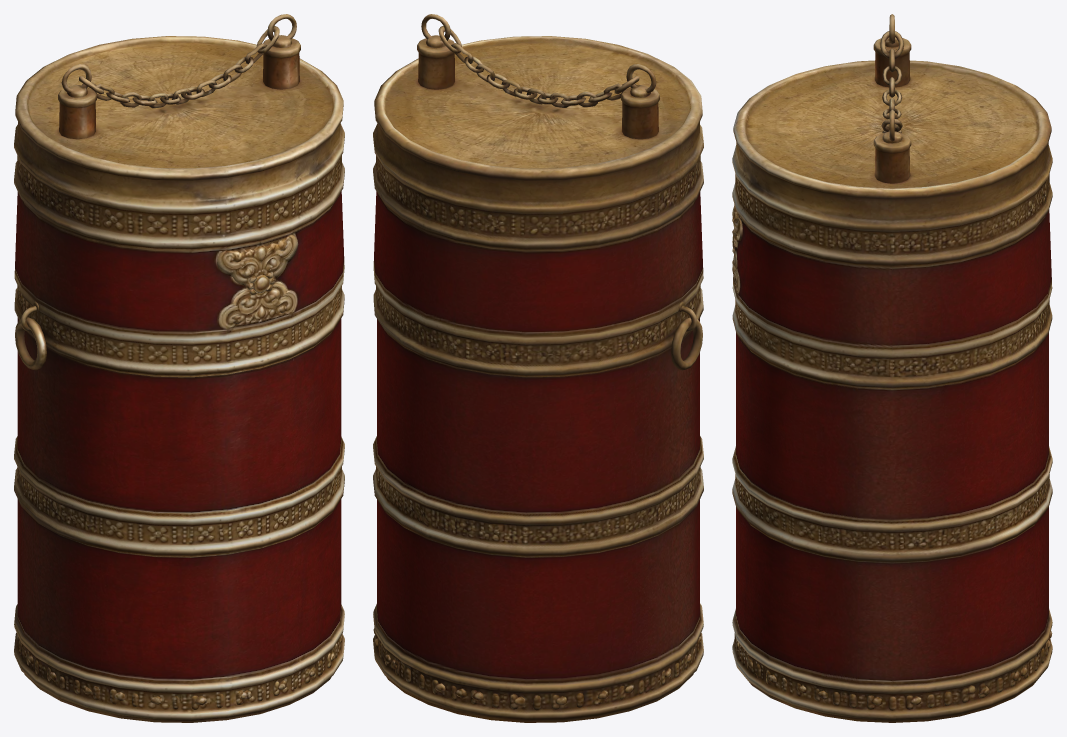
File: vessel-cylinder.glb
The picture shows the model from 3 angles, left to right: view 1: azimuth 30°, elevation 25°; view 2: azimuth 150°, elevation 25°; view 3: azimuth 270°, elevation 25°; orthographic projection. The views are drawn at different scales.
Visible parts, largest first — view 1: 三维装饰筒模型; view 2: 三维装饰筒模型; view 3: 三维装饰筒模型.
Part boxes in pixels (x1,y1,x2,y2): 三维装饰筒模型: (14,14,344,722); 三维装饰筒模型: (373,14,703,722); 三维装饰筒模型: (732,14,1052,722).
Size of the model in its own units: 0.0924 by 0.18 by 0.0878.
1 material, 1 textured.
